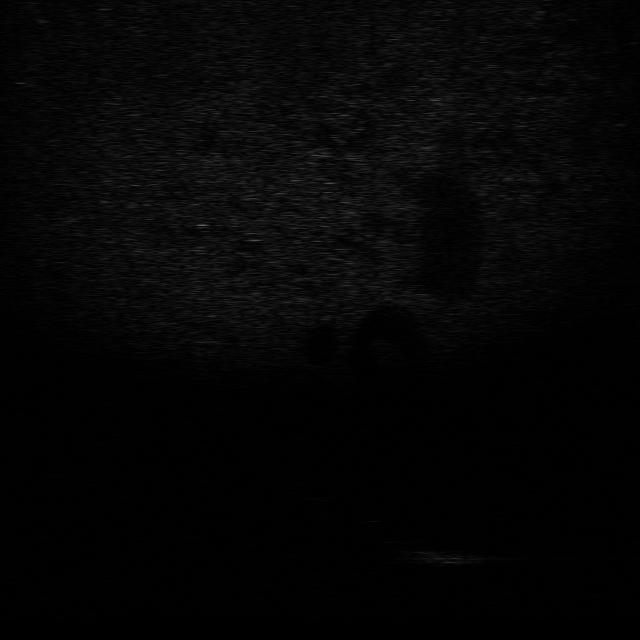ball: (301, 480, 339, 504)
metal bucket: (408, 542, 488, 571)
tyre: (354, 515, 410, 547)
